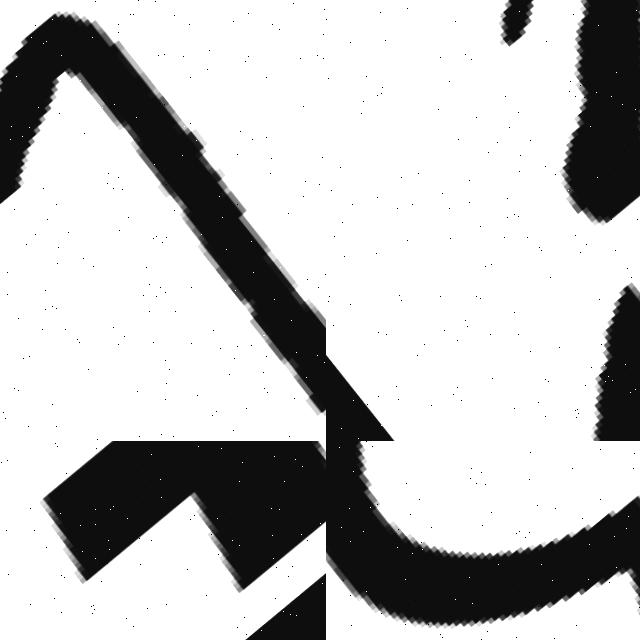5: (326, 441, 640, 640)
I: (326, 0, 640, 441)
L: (0, 0, 326, 441)
T: (0, 441, 326, 640)
